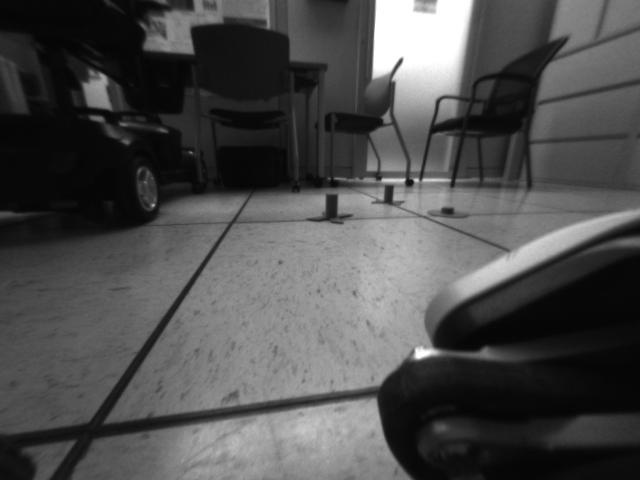X: (308, 192, 354, 227), (368, 184, 406, 207)
